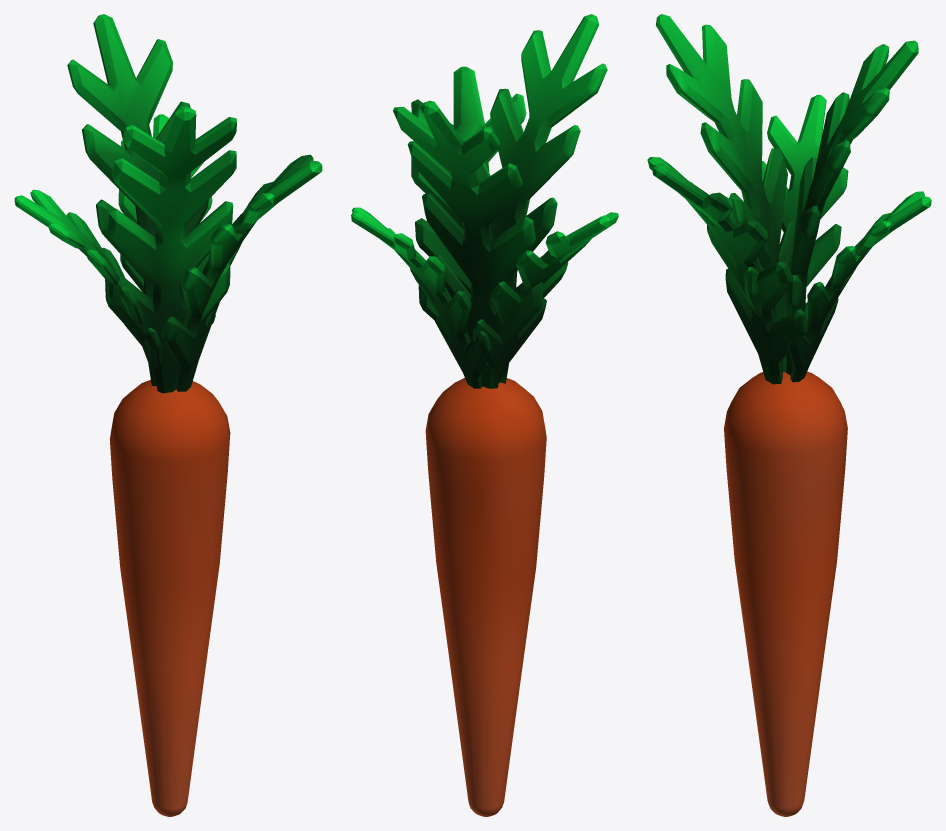
The model's file is Carrot.fbx.
The picture shows the model from 3 angles, left to right: view 1: azimuth 30°, elevation 25°; view 2: azimuth 150°, elevation 25°; view 3: azimuth 270°, elevation 25°; orthographic projection. The views are drawn at different scales.
Parts seen in each view (by area): view 1: Body, leaf5, leaf1, leaf2, leaf3, leaf4; view 2: Body, leaf1, leaf5, leaf3, leaf4, leaf2; view 3: Body, leaf5, leaf2, leaf1, leaf3, leaf4.
Boxes of the visible parts, x1,y1,x2,y2 form: Body: [109, 380, 230, 816]; leaf5: [105, 106, 236, 393]; leaf1: [67, 14, 209, 385]; leaf2: [161, 154, 322, 391]; leaf3: [14, 189, 161, 378]; leaf4: [118, 114, 215, 345]; Body: [425, 378, 546, 816]; leaf1: [393, 100, 543, 388]; leaf5: [476, 14, 607, 383]; leaf3: [473, 212, 618, 383]; leaf4: [351, 207, 491, 388]; leaf2: [411, 66, 526, 321]; Body: [724, 371, 847, 816]; leaf5: [655, 14, 794, 320]; leaf2: [647, 157, 808, 384]; leaf1: [785, 40, 918, 375]; leaf3: [762, 94, 848, 372]; leaf4: [787, 191, 931, 382].
Bounding box in the file's own units: 0.012 × 0.0353 × 0.0117.
